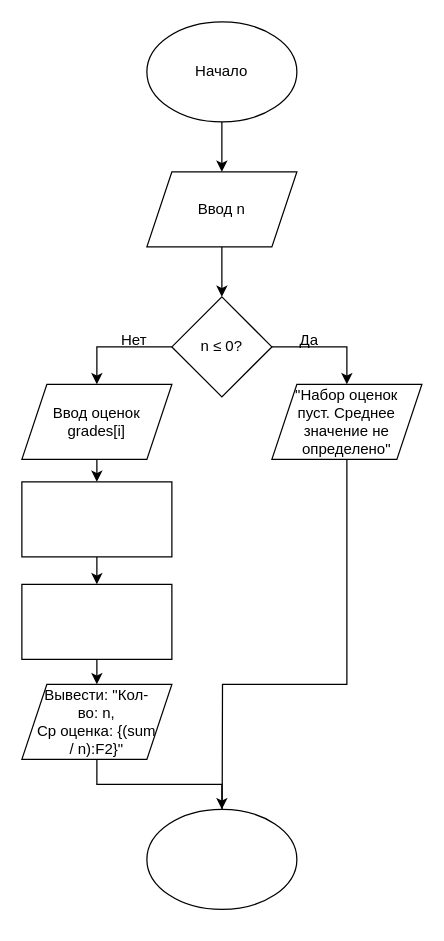
Image size: 444x941. Some labels were removed from this diagram. Each missing label, with the centre of its shape:
"sum = 0" belongs at pixel 96 519.
"Для каждого grade в grades sum = sum + grade" belongs at pixel 96 621.
"Конец" belongs at pixel 221 858.
